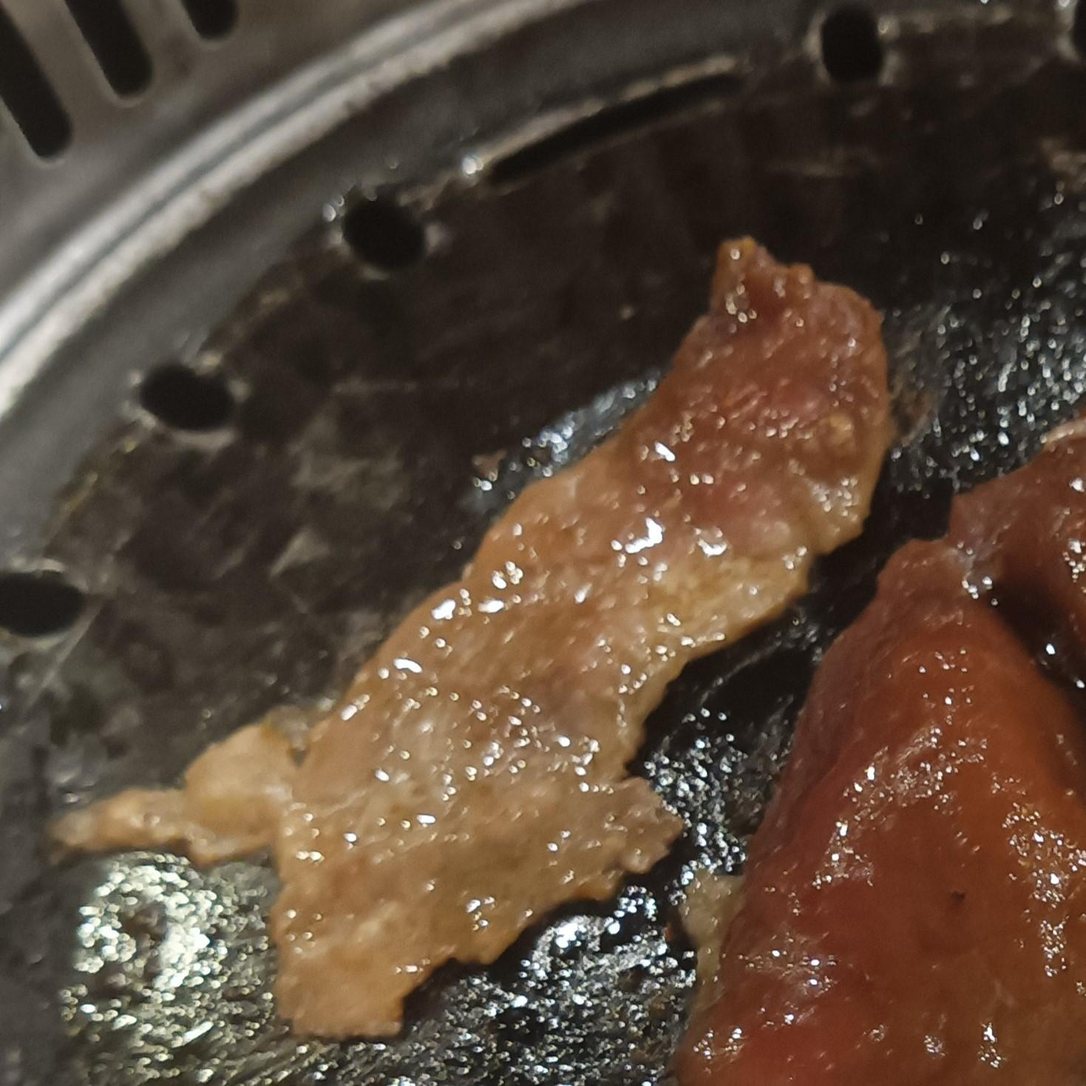Undercooked: (685, 449, 1085, 1085)
Well-Cooked: (69, 240, 914, 1045)
